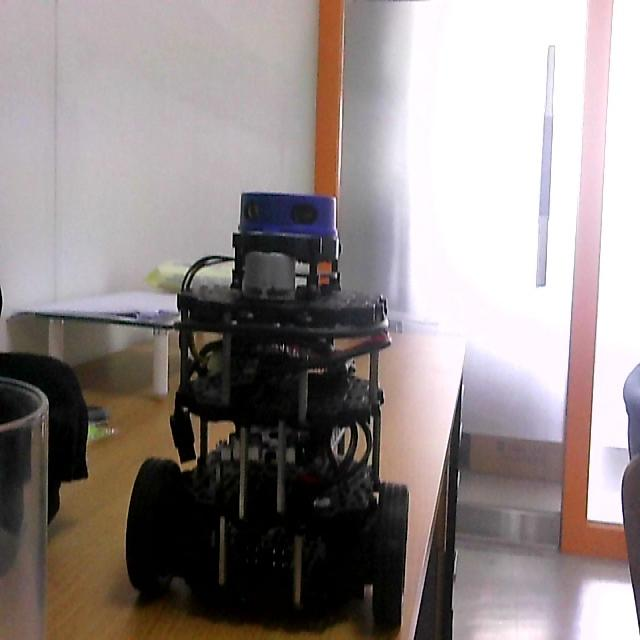turtle: (126, 189, 412, 640)
